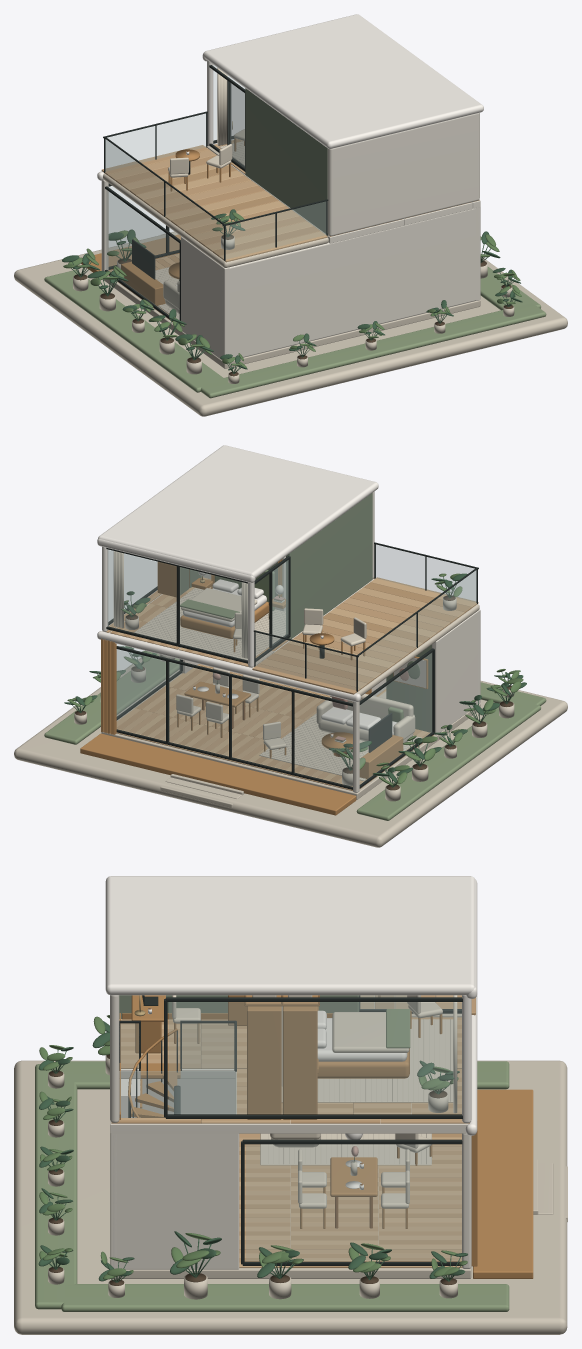
Rendered from mylodge-villa.glb.
The picture shows the model from 3 angles, top to bottom: view 1: azimuth 30°, elevation 25°; view 2: azimuth 150°, elevation 25°; view 3: azimuth 270°, elevation 25°; orthographic projection. The views are drawn at different scales.
Parts seen in each view (by area): view 1: SHELL_GROUND__Warm_mineral_plaster, ROOF__Porcelain_white, SITE__Sand_limestone, SHELL_UPPER__Warm_mineral_plaster, TERRACE, SITE__Garden_ground, TERRACE_GLASS__Clear_glazing, SHELL_UPPER__Sage_painted_wall, GLASS_GROUND__Clear_glazing, SITE__Leaf_sage, GF__Sand_limestone, SITE__Leaf_olive (+14 smaller); view 2: GLASS_GROUND__Clear_glazing, ROOF__Porcelain_white, SITE__Sand_limestone, GLASS_UPPER__Clear_glazing, TERRACE, TERRACE_GLASS__Clear_glazing, GF, SITE__Garden_ground, SHELL_UPPER__Sage_painted_wall, SITE__Oiled_oak, GF__Natural_cream_linen, SHELL_GROUND__Warm_mineral_plaster (+23 smaller); view 3: ROOF__Porcelain_white, SITE__Sand_limestone, GLASS_UPPER__Clear_glazing, GLASS_GROUND__Clear_glazing, SITE__Garden_ground, GF, SHELL_GROUND__Warm_mineral_plaster, FF__Oiled_oak, SITE__Oiled_oak, FF, FF__Natural_cream_linen, FF__Clear_glazing (+23 smaller).
Boxes of the visible parts, x1=… form: SHELL_GROUND__Warm_mineral_plaster: x1=101, y1=179, x2=480, y2=360; ROOF__Porcelain_white: x1=202, y1=14, x2=483, y2=148; SITE__Sand_limestone: x1=14, y1=231, x2=567, y2=416; SHELL_UPPER__Warm_mineral_plaster: x1=327, y1=113, x2=479, y2=236; TERRACE: x1=101, y1=145, x2=327, y2=262; SITE__Garden_ground: x1=44, y1=266, x2=546, y2=398; TERRACE_GLASS__Clear_glazing: x1=105, y1=114, x2=326, y2=259; SHELL_UPPER__Sage_painted_wall: x1=245, y1=88, x2=328, y2=234; GLASS_GROUND__Clear_glazing: x1=106, y1=186, x2=180, y2=319; SITE__Leaf_sage: x1=62, y1=231, x2=522, y2=373; GF__Sand_limestone: x1=103, y1=254, x2=480, y2=368; SITE__Leaf_olive: x1=63, y1=234, x2=521, y2=367; GLASS_GROUND__Clear_glazing: x1=116, y1=644, x2=432, y2=786; ROOF__Porcelain_white: x1=97, y1=445, x2=378, y2=582; SITE__Sand_limestone: x1=14, y1=654, x2=567, y2=847; GLASS_UPPER__Clear_glazing: x1=107, y1=550, x2=288, y2=659; TERRACE: x1=252, y1=577, x2=478, y2=694; TERRACE_GLASS__Clear_glazing: x1=255, y1=545, x2=476, y2=690; GF: x1=116, y1=664, x2=433, y2=790; SITE__Garden_ground: x1=44, y1=654, x2=546, y2=820; SHELL_UPPER__Sage_painted_wall: x1=286, y1=493, x2=372, y2=638; SITE__Oiled_oak: x1=80, y1=733, x2=356, y2=815; GF__Natural_cream_linen: x1=176, y1=667, x2=421, y2=780; SHELL_GROUND__Warm_mineral_plaster: x1=182, y1=573, x2=480, y2=792; ROOF__Porcelain_white: x1=105, y1=876, x2=477, y2=998; SITE__Sand_limestone: x1=14, y1=1055, x2=567, y2=1334; GLASS_UPPER__Clear_glazing: x1=169, y1=995, x2=461, y2=1113; GLASS_GROUND__Clear_glazing: x1=246, y1=1145, x2=461, y2=1260; SITE__Garden_ground: x1=35, y1=1061, x2=509, y2=1311; GF: x1=239, y1=1133, x2=462, y2=1267; SHELL_GROUND__Warm_mineral_plaster: x1=110, y1=1133, x2=471, y2=1269; FF__Oiled_oak: x1=119, y1=995, x2=442, y2=1119; SITE__Oiled_oak: x1=473, y1=1089, x2=533, y2=1278; FF: x1=111, y1=1017, x2=469, y2=1123; FF__Natural_cream_linen: x1=172, y1=995, x2=453, y2=1102; FF__Clear_glazing: x1=119, y1=1023, x2=236, y2=1117.
Size of the model in its own units: 11.8 by 6.56 by 10.51.
